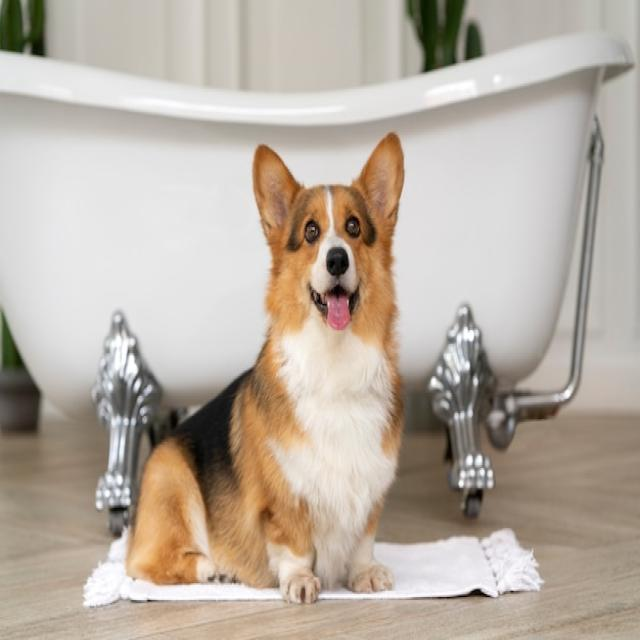Dog: (124, 133, 405, 604)
